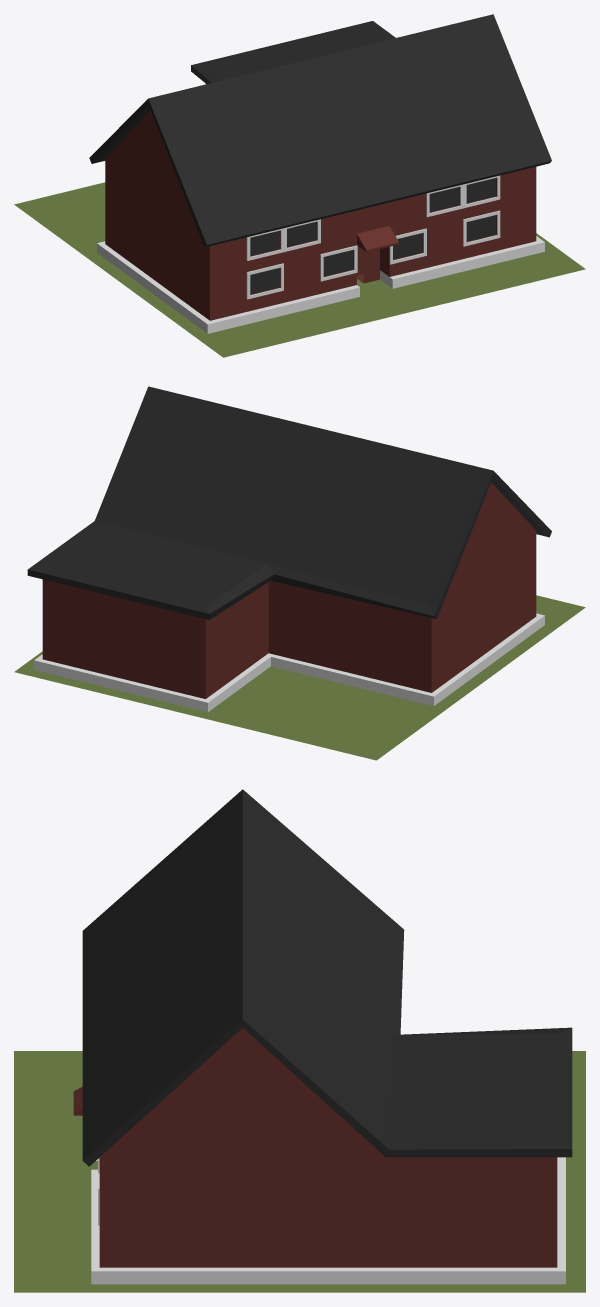
The model's file is 2x2_Residential_House.fbx.
3 renders of one model, top to bottom at view 1: azimuth 30°, elevation 25°; view 2: azimuth 150°, elevation 25°; view 3: azimuth 270°, elevation 25°, orthographic. The views are drawn at different scales.
Parts seen in each view (by area): view 1: 2x2 Residential House; view 2: 2x2 Residential House; view 3: 2x2 Residential House.
Boxes of the visible parts, <box> form: 2x2 Residential House: <box>14,14,585,357</box>; 2x2 Residential House: <box>14,386,585,760</box>; 2x2 Residential House: <box>14,789,585,1292</box>.
Size of the model in its own units: 2 by 1.03 by 2.
